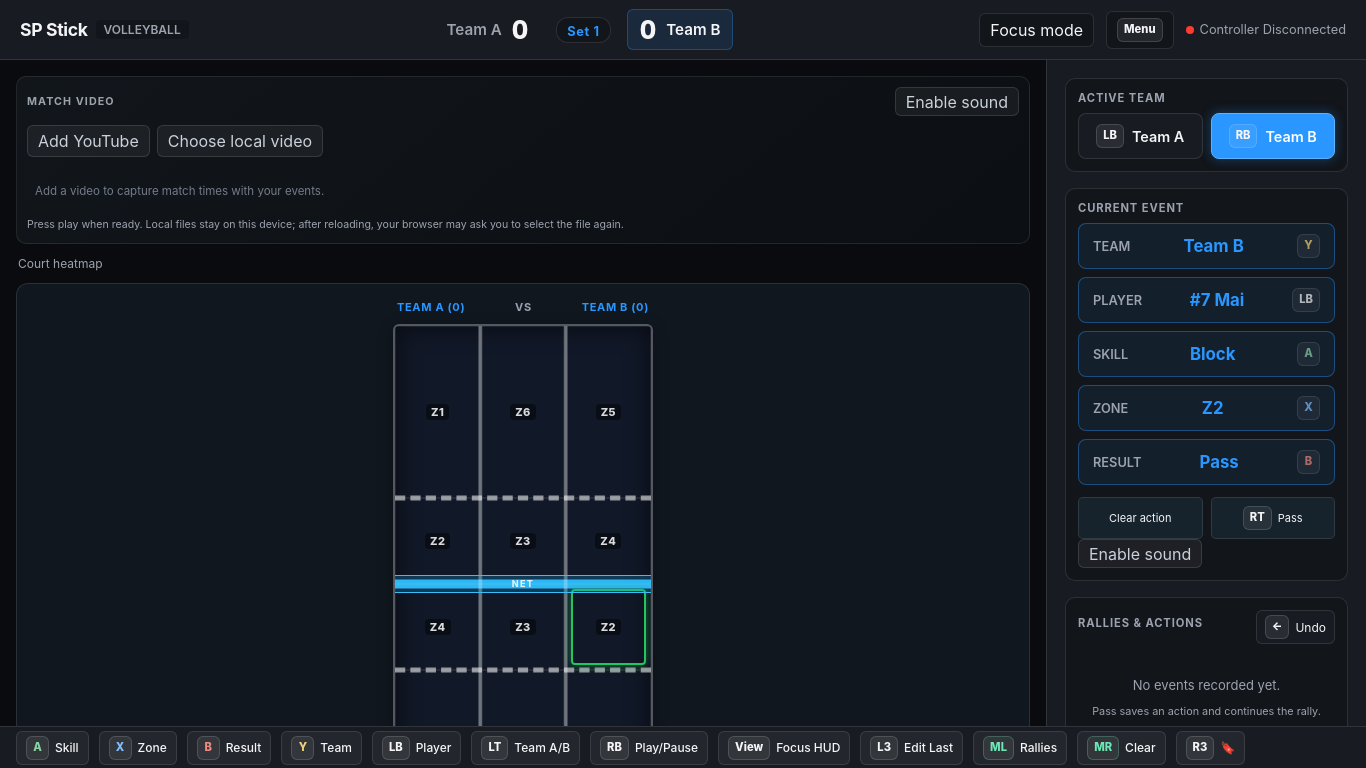
LiveScout focus mode › keeps the active team and selected player visible in the action summary
The image size is (1366, 768).
Click the button "Focus mode" at (1037, 30), box [979,12,1094,46]
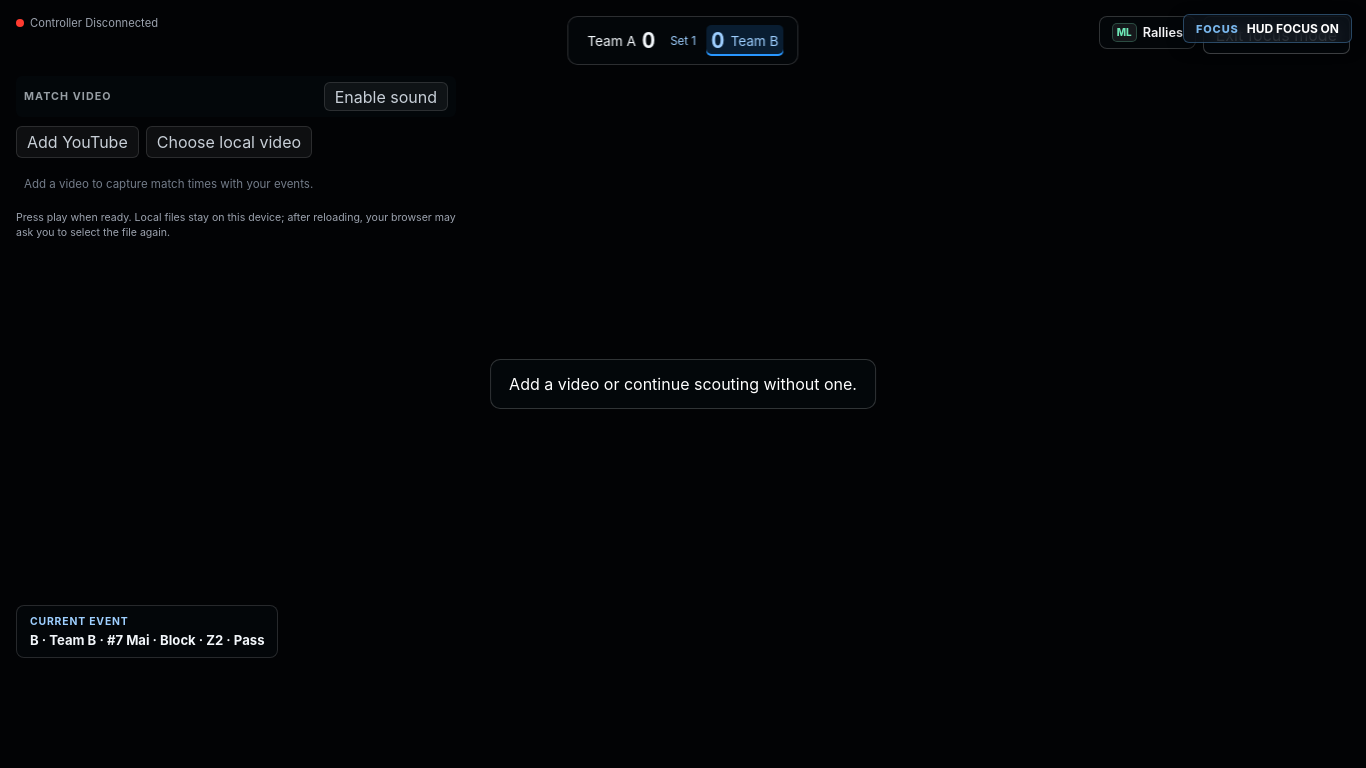
Now the text "B · Team B · #7 Mai · Block · Z2 · Pass" is shown, box [30,632,264,648]
